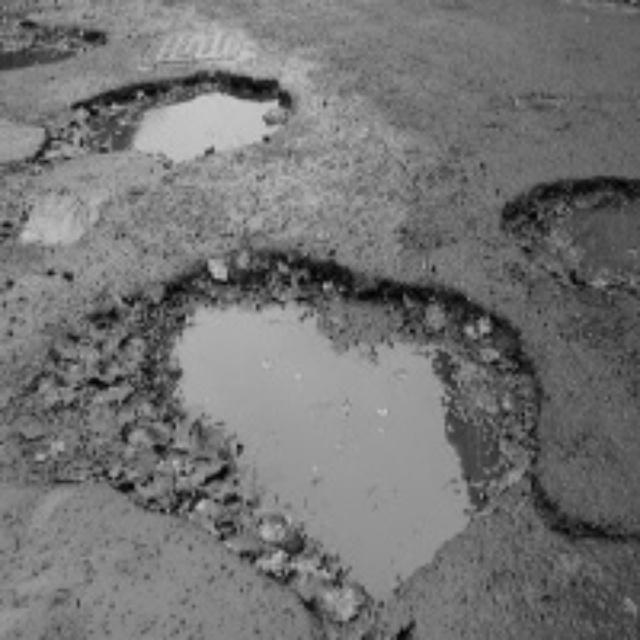Pothole: (180, 262, 508, 570), (511, 160, 640, 309), (91, 56, 255, 171)
